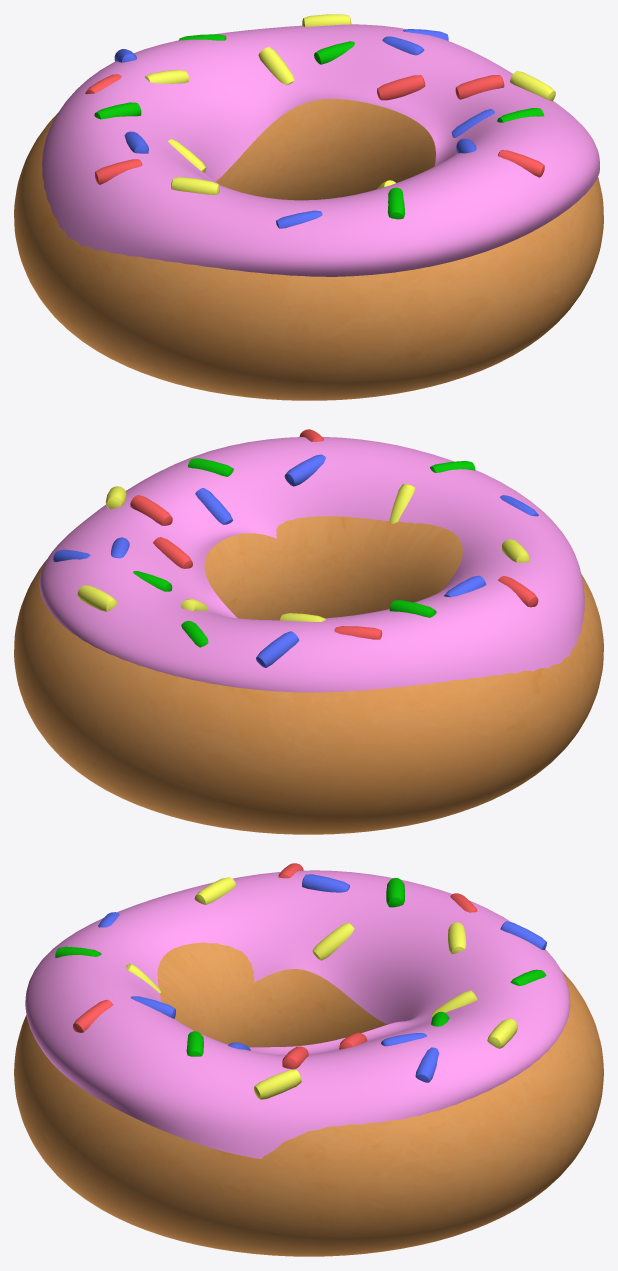
Rendered from Donut1.obj.
3 views of the same model, one above another, from view 1: azimuth 30°, elevation 25°; view 2: azimuth 150°, elevation 25°; view 3: azimuth 270°, elevation 25° (orthographic).
Parts seen in each view (by area): view 1: mesh02, mesh01, mesh25, mesh11, mesh04, mesh26, mesh06, mesh18, mesh05, mesh03, mesh17, mesh08 (+1 smaller); view 2: mesh01, mesh02, mesh15, mesh11, mesh17, mesh24, mesh22, mesh25; view 3: mesh02, mesh01, mesh26, mesh21, mesh14, mesh06, mesh17, mesh05, mesh19, mesh15.
Boxes of the visible parts, bbox=[...] form: mesh02: bbox=[42, 24, 599, 276]; mesh01: bbox=[14, 99, 603, 400]; mesh25: bbox=[377, 75, 425, 100]; mesh11: bbox=[455, 75, 504, 99]; mesh04: bbox=[258, 47, 294, 85]; mesh26: bbox=[510, 71, 555, 101]; mesh06: bbox=[171, 177, 219, 194]; mesh18: bbox=[95, 159, 142, 184]; mesh05: bbox=[498, 150, 544, 177]; mesh03: bbox=[94, 102, 141, 119]; mesh17: bbox=[302, 14, 351, 26]; mesh08: bbox=[145, 69, 188, 83]; mesh01: bbox=[14, 516, 603, 834]; mesh02: bbox=[39, 437, 584, 692]; mesh15: bbox=[256, 631, 299, 667]; mesh11: bbox=[130, 495, 172, 525]; mesh17: bbox=[77, 585, 117, 611]; mesh24: bbox=[284, 454, 325, 486]; mesh22: bbox=[195, 488, 232, 524]; mesh25: bbox=[153, 537, 192, 568]; mesh02: bbox=[25, 870, 570, 1158]; mesh01: bbox=[14, 942, 603, 1256]; mesh26: bbox=[254, 1069, 301, 1099]; mesh21: bbox=[312, 922, 354, 960]; mesh14: bbox=[302, 874, 349, 892]; mesh06: bbox=[194, 877, 236, 904]; mesh17: bbox=[487, 1018, 517, 1048]; mesh05: bbox=[73, 999, 113, 1032]; mesh19: bbox=[415, 1047, 439, 1082]; mesh15: bbox=[500, 921, 546, 949].
Bounding box in the file's own units: 13.77 × 5.35 × 13.76.
6 materials, 1 textured.
